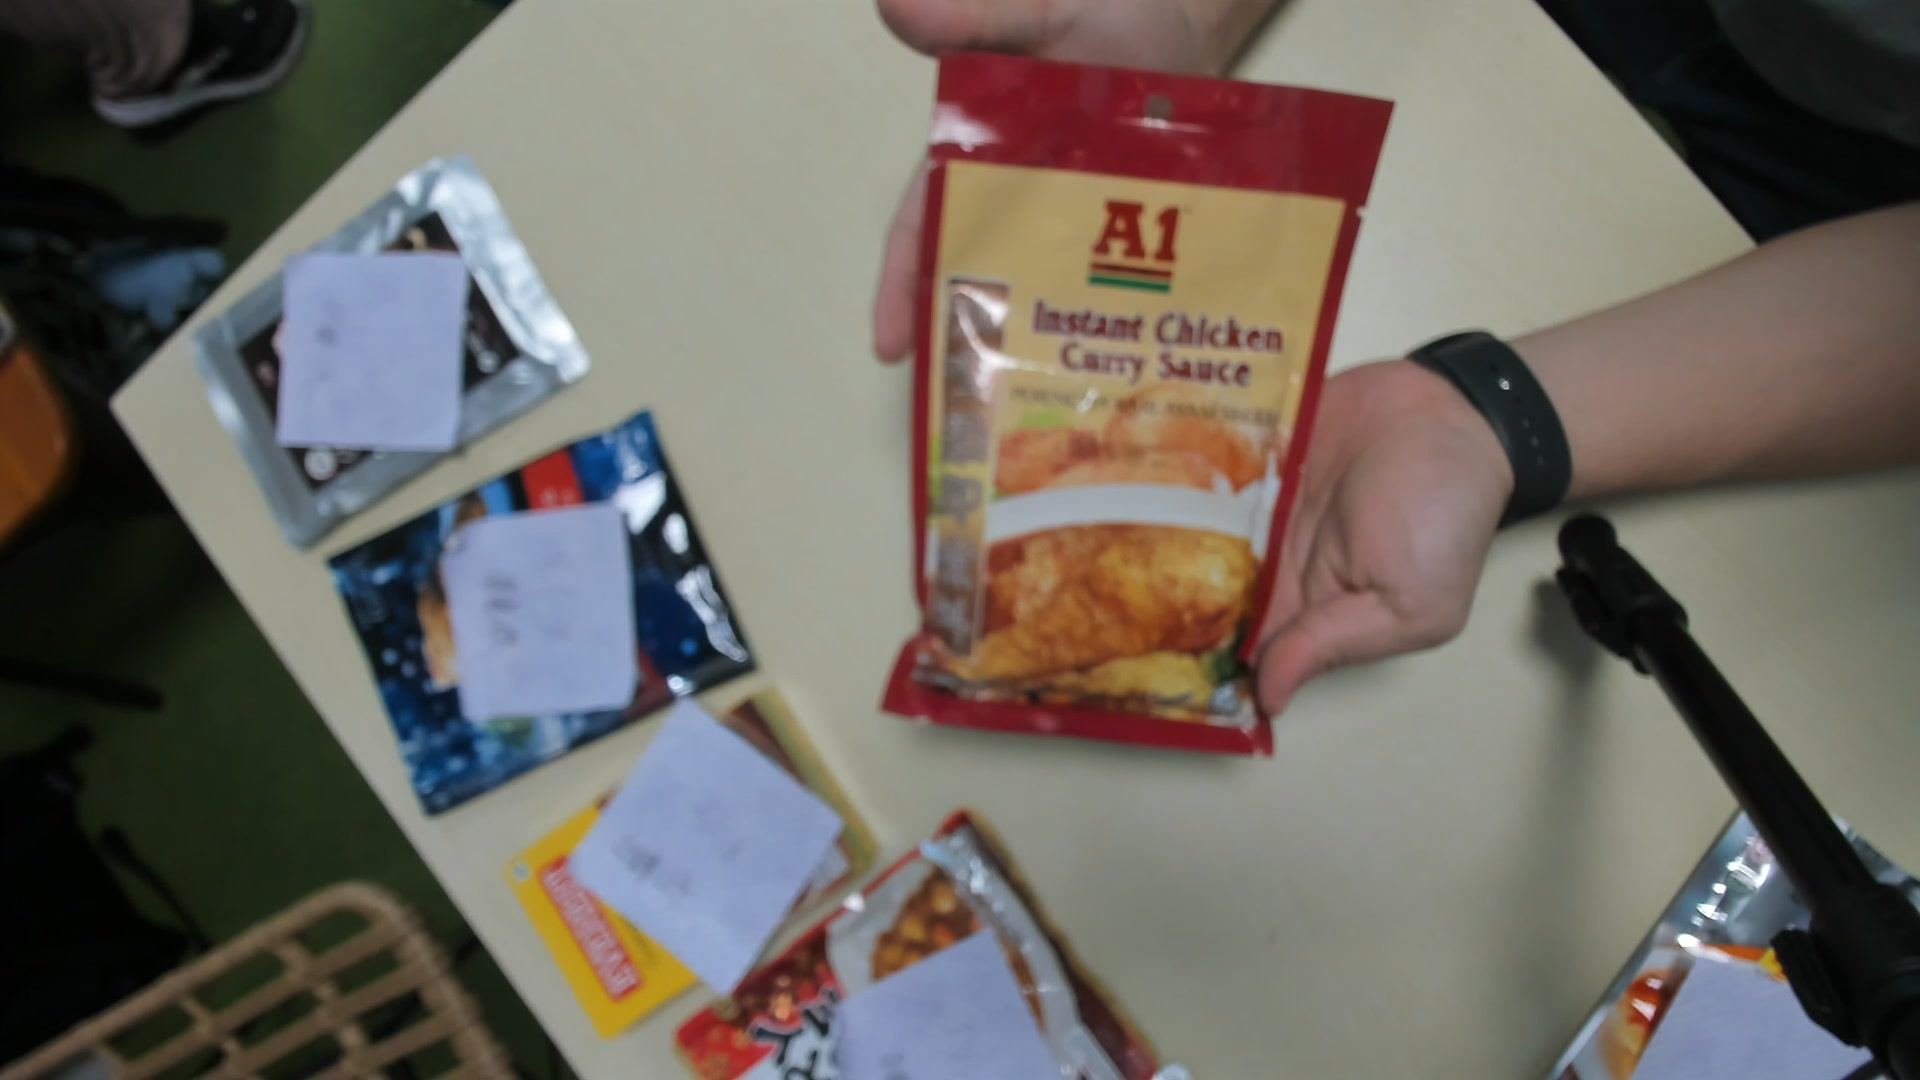CurryPastePowderSauce_200-299g_Halal_NonHealthy: (909, 51, 1335, 760)
